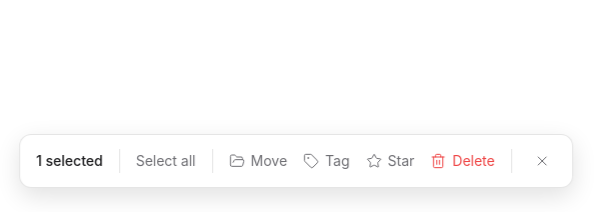
Test: SelectionToolbar › Move button shows folder dropdown
Click the button "Move": point(258, 161) [229,151,287,171]
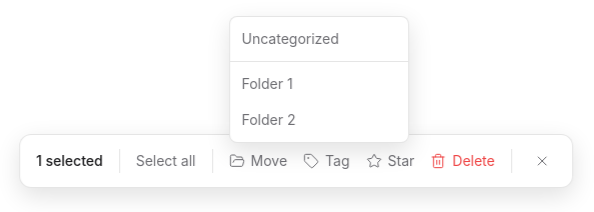
Expected: the button "Folder 1" is shown, [230,66,408,102]
Expected: the button "Folder 2" is shown, [230,102,408,138]
Expected: the button "Uncategorized" is shown, [230,21,408,57]
